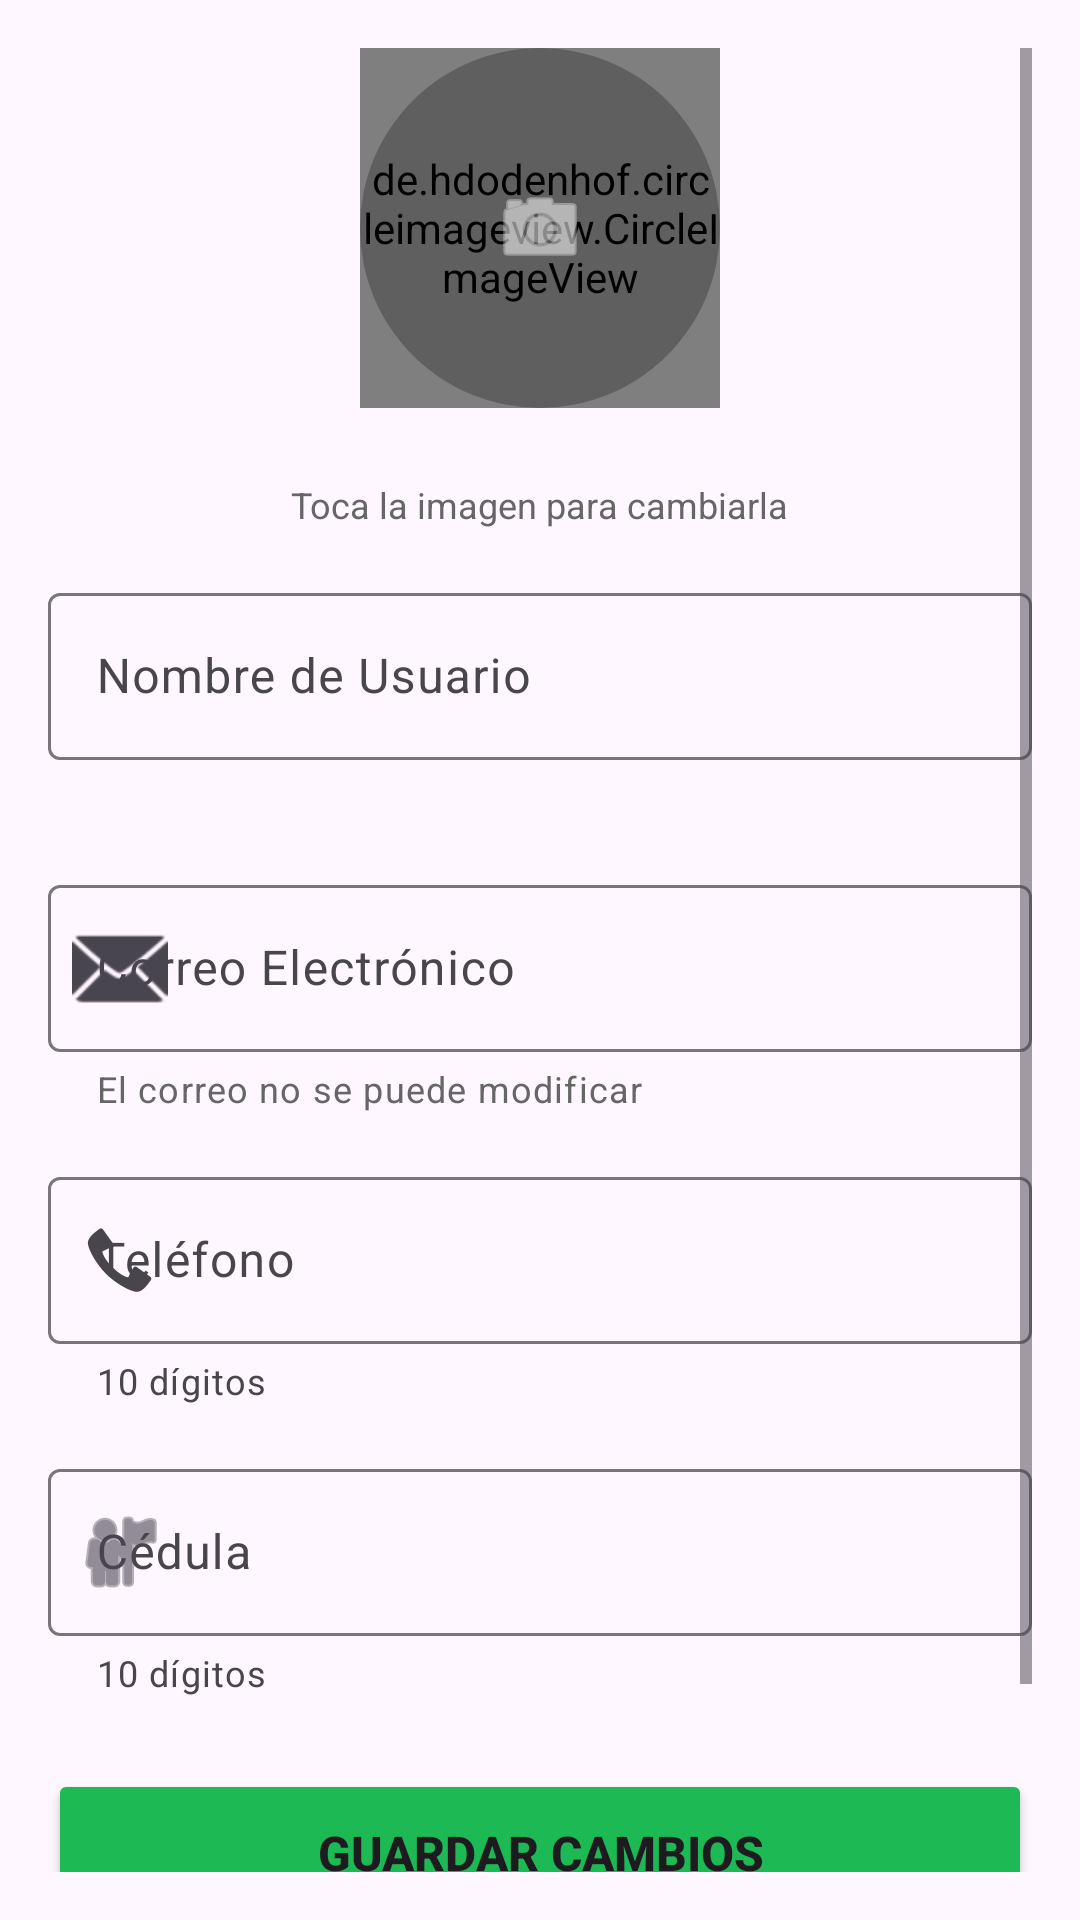

Icon click points for this 1080w x 1920h phone screenshot, format [x,y]:
camera: [540,228]
